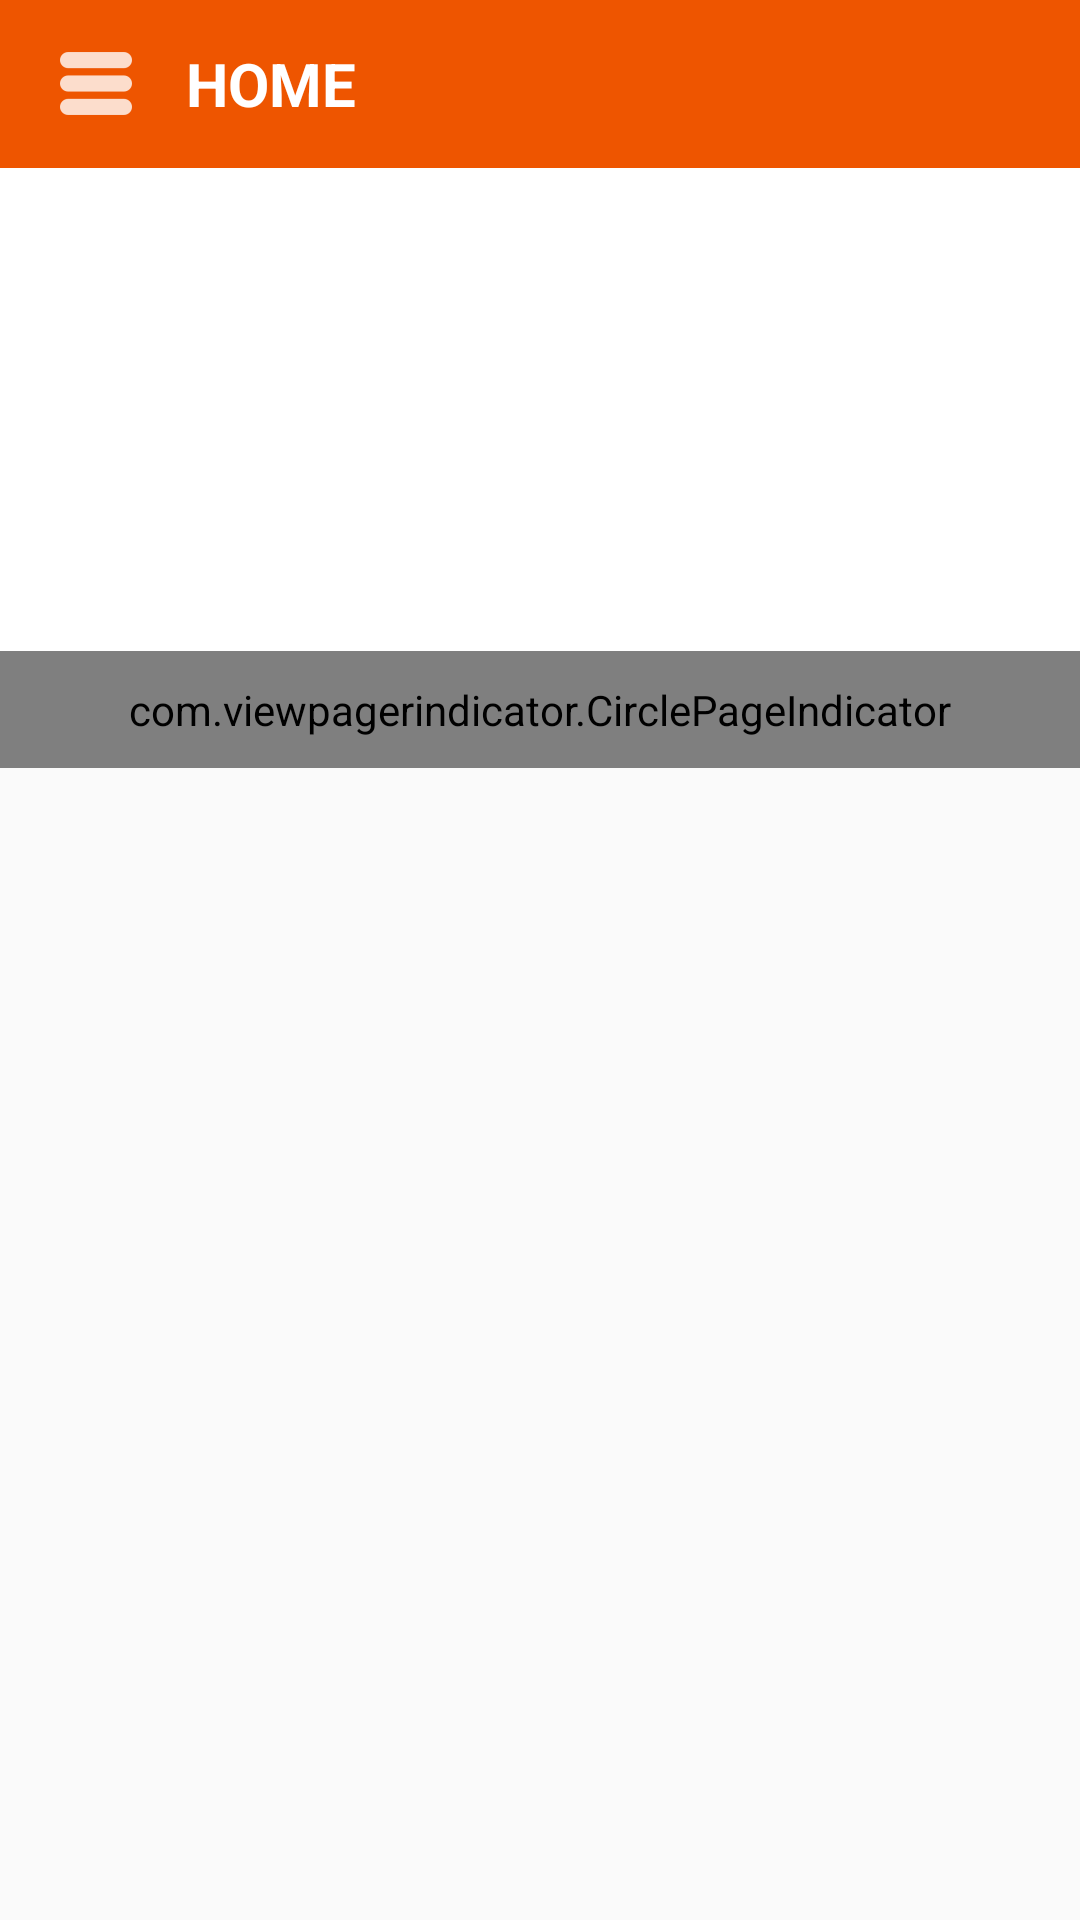

Named icons in this screenshot (1080w x 1920h) and their bounding boxes, (x1, y1, x2, y2):
navigation: (60, 52, 132, 115)
